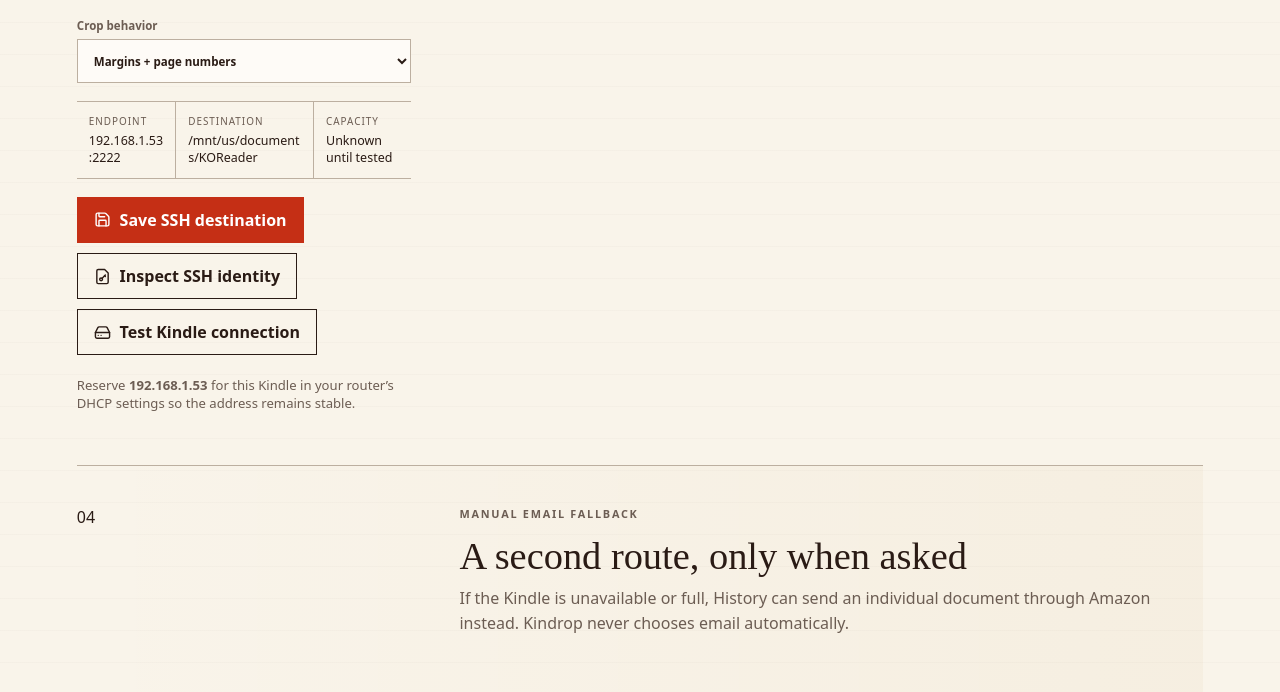
it: Settings › presents SSH as the primary Kindle destination and tests it
This screenshot has width=1280, height=692.
(page scrolled)
Expected: the text "Manual email fallback" is shown, left=460, top=506, right=639, bottom=521
Click the button "Test Kindle connection": (197, 332) left=77, top=309, right=317, bottom=355
(page scrolled)
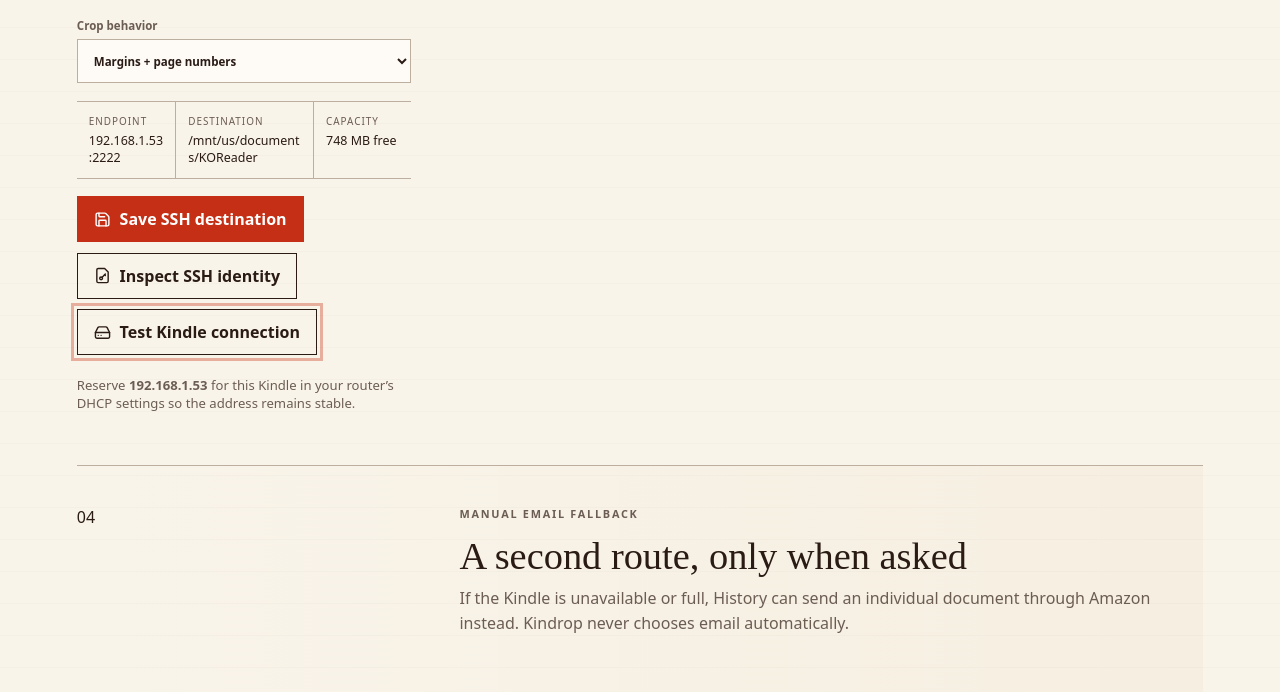
Expected: the text "748 MB free" is shown, left=326, top=132, right=399, bottom=149
